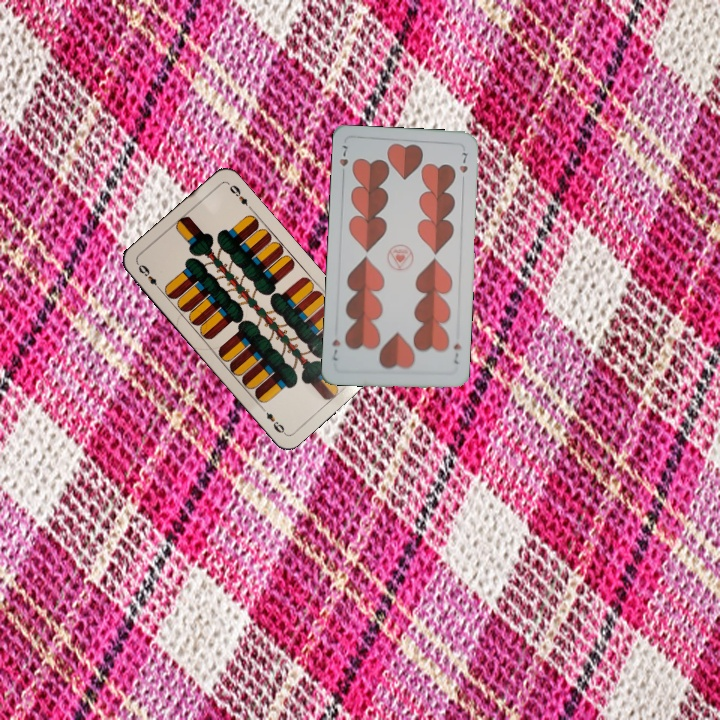E9: (134, 259, 164, 294)
H7: (336, 141, 351, 169), (449, 339, 463, 367)
